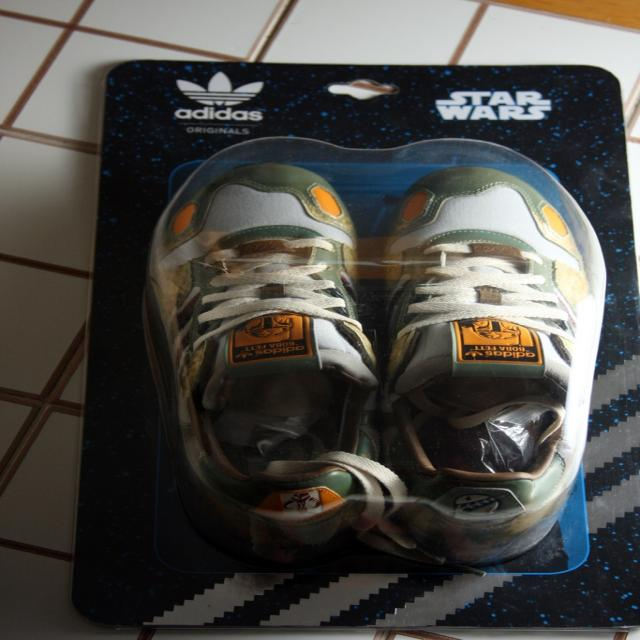adidas: (167, 69, 270, 124)
